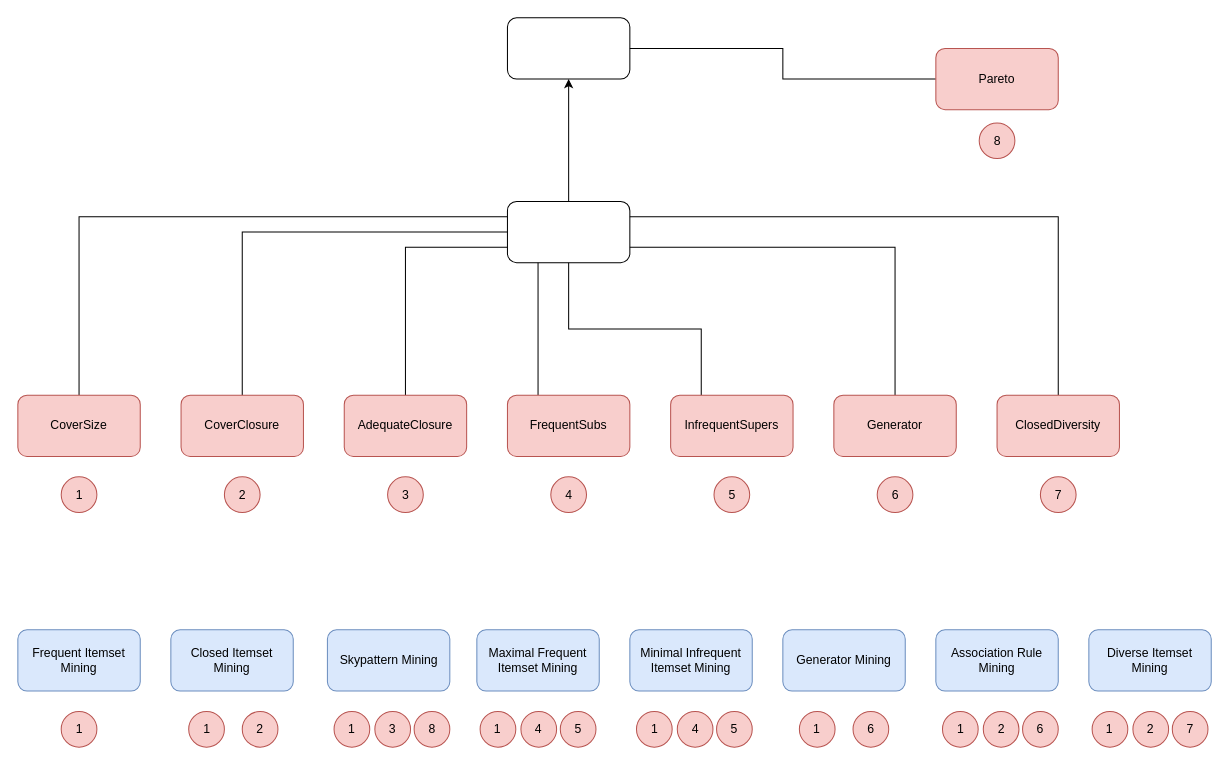
Image size: 1229x765. Some labels were removed from this diagram. Here are the shapes that lost their labels. From the top down, the centre of each, then its label:
point 568,48: Choco-solver
point 568,231: Choco-mining
